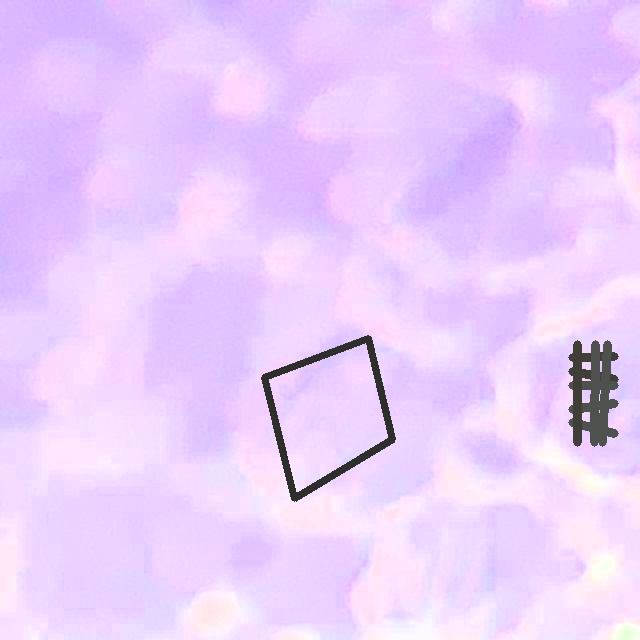close: (262, 335, 394, 501)
open: (568, 340, 618, 445)
